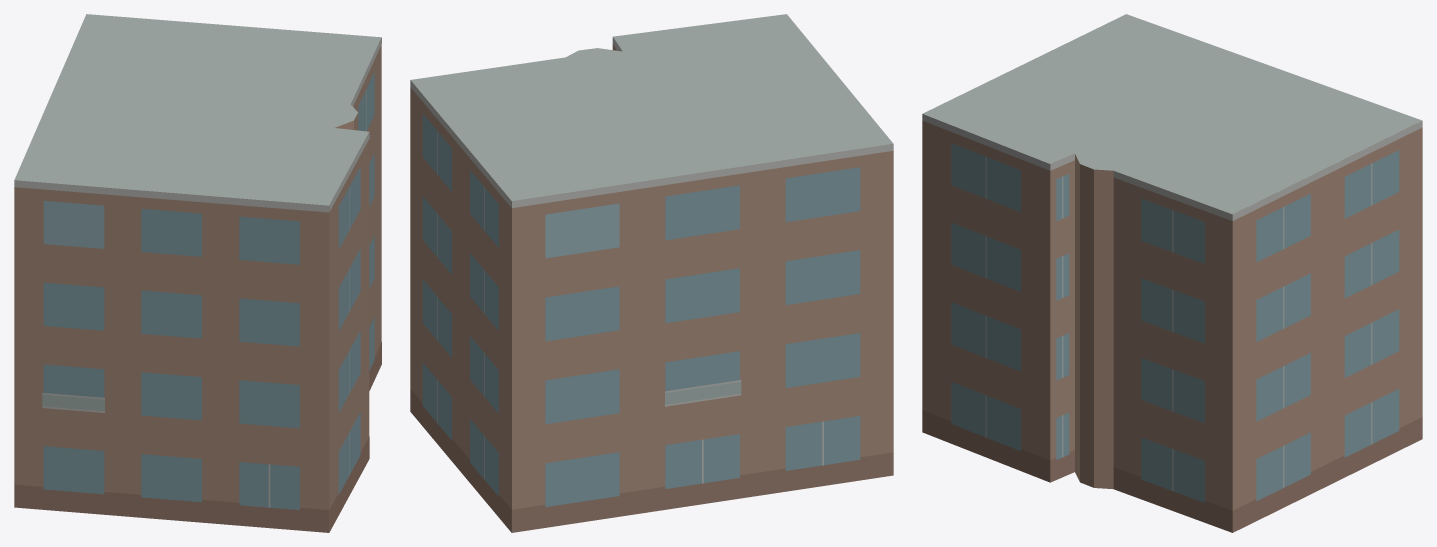
Rendered from survey-upis-32822988.glb.
3 renders of one model, left to right at view 1: azimuth 30°, elevation 25°; view 2: azimuth 150°, elevation 25°; view 3: azimuth 270°, elevation 25°, orthographic. The views are drawn at different scales.
Parts seen in each view (by area): view 1: survey-upis-32822988.tmp; view 2: survey-upis-32822988.tmp; view 3: survey-upis-32822988.tmp.
Boxes of the visible parts, x1,y1,x2,y2 form: survey-upis-32822988.tmp: (14,14,381,532); survey-upis-32822988.tmp: (410,14,893,532); survey-upis-32822988.tmp: (922,14,1422,532).
Size of the model in its own units: 15.67 by 11.6 by 16.53.
